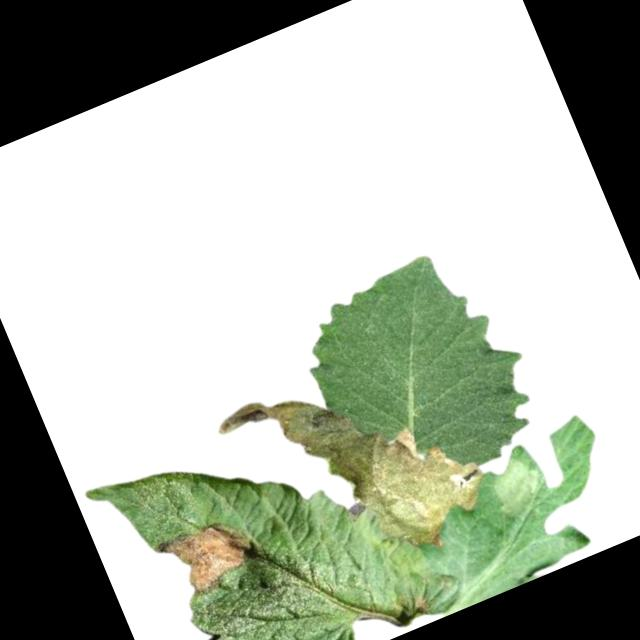Late_blight: (210, 331, 501, 608), (155, 510, 266, 604), (486, 448, 557, 523)
healthy: (284, 235, 553, 512)
